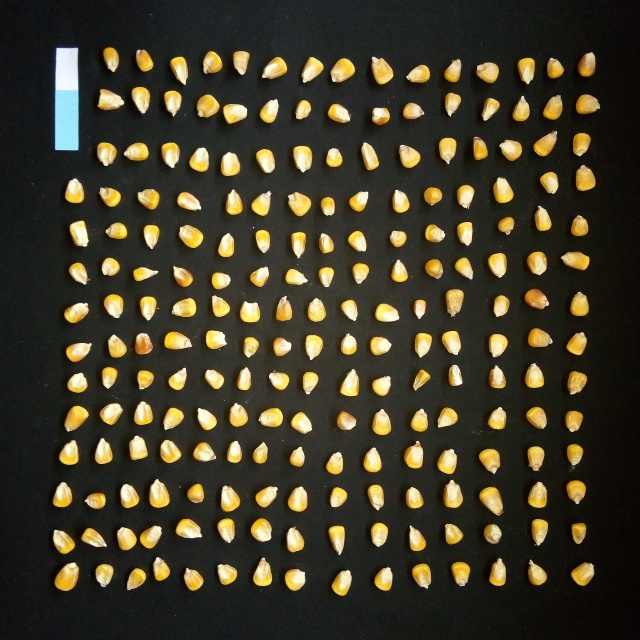escala: (54, 47, 79, 150)
maiz: (52, 559, 82, 593), (476, 484, 505, 516), (368, 55, 395, 87), (62, 404, 91, 433), (147, 477, 172, 510), (329, 56, 357, 85), (49, 527, 78, 555), (533, 128, 560, 158), (299, 55, 325, 86), (63, 339, 95, 364), (173, 515, 205, 540), (285, 190, 313, 218), (523, 558, 550, 587), (569, 560, 598, 587), (558, 249, 592, 272), (329, 567, 354, 598), (402, 439, 426, 471), (325, 523, 348, 556), (247, 515, 275, 542), (522, 403, 548, 432), (285, 484, 311, 513), (408, 561, 434, 590), (96, 87, 126, 112), (290, 144, 315, 174), (477, 445, 502, 475), (492, 175, 516, 206), (302, 331, 326, 362), (370, 406, 394, 437), (252, 556, 275, 588), (257, 404, 284, 431), (260, 55, 288, 81), (177, 223, 205, 249), (101, 292, 126, 321), (57, 437, 82, 466), (158, 436, 183, 465), (169, 295, 199, 319), (219, 484, 243, 514), (563, 477, 587, 507), (526, 479, 549, 510), (168, 55, 190, 87), (486, 556, 508, 588), (199, 49, 224, 77), (63, 300, 91, 325), (523, 444, 548, 472), (139, 522, 164, 550), (251, 189, 275, 218), (485, 251, 509, 280), (567, 289, 591, 318), (126, 433, 150, 462), (372, 564, 396, 593), (542, 92, 565, 122), (574, 163, 597, 193), (163, 329, 193, 352), (338, 367, 361, 397), (358, 141, 380, 172), (68, 218, 90, 249), (443, 287, 465, 318), (442, 478, 464, 509), (97, 400, 123, 426), (289, 409, 315, 435), (282, 567, 308, 593), (474, 60, 501, 85), (195, 93, 220, 120), (222, 102, 249, 127), (325, 101, 352, 126), (575, 91, 602, 116), (564, 369, 589, 396), (404, 62, 432, 86), (238, 298, 262, 326), (523, 286, 551, 310), (80, 525, 108, 549), (159, 140, 182, 169), (372, 301, 401, 324), (92, 436, 115, 465), (52, 480, 75, 509), (405, 523, 428, 552), (131, 85, 152, 116), (511, 93, 532, 124), (397, 143, 422, 169), (130, 400, 155, 426), (254, 147, 278, 174), (497, 138, 524, 162), (135, 187, 162, 211), (194, 405, 218, 432), (485, 404, 509, 431), (191, 439, 218, 463), (254, 484, 281, 508), (283, 526, 307, 553), (125, 566, 149, 593), (449, 560, 473, 587), (175, 190, 203, 213), (305, 296, 328, 324), (566, 329, 589, 357), (226, 401, 249, 429), (516, 55, 536, 87), (162, 89, 184, 118), (259, 96, 281, 125), (437, 136, 459, 165), (64, 176, 86, 205), (136, 294, 158, 323), (412, 330, 434, 359), (440, 328, 462, 357), (526, 326, 555, 348), (365, 483, 387, 512), (577, 50, 598, 80), (274, 294, 295, 324), (161, 406, 186, 431), (345, 228, 369, 254), (170, 264, 196, 288), (166, 364, 190, 390), (95, 141, 118, 168), (187, 145, 210, 172), (219, 150, 242, 177), (96, 185, 123, 208), (67, 260, 90, 287), (525, 250, 548, 277), (487, 332, 510, 359), (523, 362, 546, 389), (436, 404, 459, 431), (118, 482, 141, 509), (115, 525, 138, 552), (529, 516, 549, 547), (122, 140, 150, 162), (409, 406, 431, 434), (361, 445, 383, 473), (437, 447, 459, 475), (369, 521, 391, 549), (93, 561, 115, 589), (442, 57, 463, 86), (223, 187, 244, 216), (215, 562, 240, 586), (567, 212, 590, 238), (367, 334, 393, 357), (562, 407, 585, 433), (182, 566, 205, 592), (441, 91, 463, 118), (571, 131, 593, 158), (389, 188, 411, 215), (289, 229, 308, 260), (216, 231, 237, 259), (215, 516, 236, 544), (533, 204, 553, 233), (347, 189, 370, 214), (249, 264, 272, 289), (324, 450, 347, 475), (106, 332, 128, 358), (480, 96, 501, 123), (456, 183, 476, 211), (455, 220, 475, 248), (66, 370, 89, 394), (335, 408, 358, 432), (481, 521, 504, 545), (442, 521, 464, 546), (134, 47, 155, 73), (538, 170, 559, 196), (283, 266, 309, 287), (210, 294, 231, 320), (471, 135, 491, 162), (141, 223, 161, 250), (152, 555, 172, 582), (231, 49, 250, 77), (371, 374, 394, 397), (423, 256, 445, 280), (454, 256, 476, 280), (204, 328, 228, 350), (401, 100, 426, 121), (350, 261, 371, 286), (134, 331, 155, 356), (404, 485, 425, 510), (253, 228, 273, 254), (339, 297, 359, 323), (488, 363, 508, 389), (250, 439, 270, 465), (390, 257, 409, 284), (224, 437, 243, 464), (423, 222, 446, 244), (271, 335, 293, 358), (267, 369, 290, 391), (185, 482, 207, 505), (545, 56, 566, 80), (241, 335, 261, 360), (491, 293, 511, 318), (99, 365, 119, 390), (565, 442, 585, 467), (131, 265, 160, 282), (236, 364, 254, 391), (422, 185, 444, 207), (204, 368, 226, 390), (369, 105, 392, 126), (210, 270, 233, 291), (287, 444, 308, 467), (328, 485, 348, 509), (101, 46, 120, 71), (104, 221, 129, 240), (339, 331, 358, 356), (300, 370, 319, 395), (495, 214, 516, 236), (100, 256, 122, 277), (293, 98, 312, 122), (316, 265, 335, 289), (412, 367, 431, 391), (446, 363, 465, 387), (83, 491, 107, 510), (569, 521, 587, 546), (324, 145, 343, 168), (410, 298, 429, 321), (135, 369, 155, 390), (317, 231, 335, 254), (319, 195, 337, 217), (388, 228, 407, 248)
